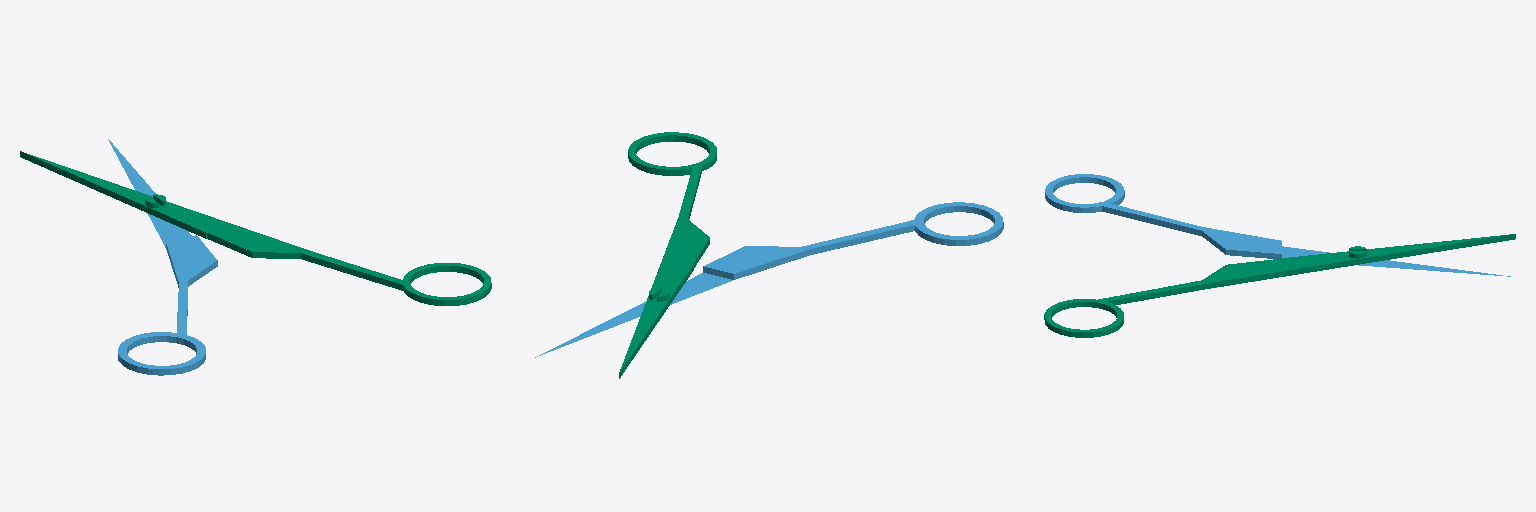
URDF robot description (partnet_297c4f8e6d89d0b33d35434498261b):
<?xml version="1.0" ?>
<robot name="partnet_297c4f8e6d89d0b33d35434498261b">
	<link name="base"/>
	<link name="link_0">
		<visual name="blade-4">
			<origin xyz="0.446743 0 0.018658"/>
			<geometry>
				<mesh filename="textured_objs/new-9.obj"/>
			</geometry>
		</visual>
		<visual name="blade-4">
			<origin xyz="0.446743 0 0.018658"/>
			<geometry>
				<mesh filename="textured_objs/new-4.obj"/>
			</geometry>
		</visual>
		<visual name="handle-5">
			<origin xyz="0.446743 0 0.018658"/>
			<geometry>
				<mesh filename="textured_objs/new-8.obj"/>
			</geometry>
		</visual>
		<visual name="handle-5">
			<origin xyz="0.446743 0 0.018658"/>
			<geometry>
				<mesh filename="textured_objs/new-0.obj"/>
			</geometry>
		</visual>
		<collision>
			<origin xyz="0.446743 0 0.018658"/>
			<geometry>
				<mesh filename="textured_objs/new-9.obj"/>
			</geometry>
		</collision>
		<collision>
			<origin xyz="0.446743 0 0.018658"/>
			<geometry>
				<mesh filename="textured_objs/new-4.obj"/>
			</geometry>
		</collision>
		<collision>
			<origin xyz="0.446743 0 0.018658"/>
			<geometry>
				<mesh filename="textured_objs/new-8.obj"/>
			</geometry>
		</collision>
		<collision>
			<origin xyz="0.446743 0 0.018658"/>
			<geometry>
				<mesh filename="textured_objs/new-0.obj"/>
			</geometry>
		</collision>
	</link>
	<joint name="joint_0" type="revolute">
		<origin xyz="-0.446743 0 -0.018658"/>
		<axis xyz="0 -1 0"/>
		<child link="link_0"/>
		<parent link="link_1"/>
		<limit lower="-0.5654866776461628" upper="1.5770795121020764"/>
	</joint>
	<link name="link_1">
		<visual name="screw-3">
			<origin xyz="0 0 0"/>
			<geometry>
				<mesh filename="textured_objs/original-3.obj"/>
			</geometry>
		</visual>
		<visual name="blade-6">
			<origin xyz="0 0 0"/>
			<geometry>
				<mesh filename="textured_objs/new-6.obj"/>
			</geometry>
		</visual>
		<visual name="handle-7">
			<origin xyz="0 0 0"/>
			<geometry>
				<mesh filename="textured_objs/new-2.obj"/>
			</geometry>
		</visual>
		<visual name="handle-7">
			<origin xyz="0 0 0"/>
			<geometry>
				<mesh filename="textured_objs/new-7.obj"/>
			</geometry>
		</visual>
		<collision>
			<origin xyz="0 0 0"/>
			<geometry>
				<mesh filename="textured_objs/original-3.obj"/>
			</geometry>
		</collision>
		<collision>
			<origin xyz="0 0 0"/>
			<geometry>
				<mesh filename="textured_objs/new-6.obj"/>
			</geometry>
		</collision>
		<collision>
			<origin xyz="0 0 0"/>
			<geometry>
				<mesh filename="textured_objs/new-2.obj"/>
			</geometry>
		</collision>
		<collision>
			<origin xyz="0 0 0"/>
			<geometry>
				<mesh filename="textured_objs/new-7.obj"/>
			</geometry>
		</collision>
	</link>
	<joint name="joint_1" type="fixed">
		<origin rpy="1.570796326794897 0 -1.570796326794897" xyz="0 0 0"/>
		<child link="link_1"/>
		<parent link="base"/>
	</joint>
</robot>

--- Facts derived from the render (not from the file) ---
3 views of the same robot in one strip: view 1: azimuth 30°, elevation 25°; view 2: azimuth 150°, elevation 25°; view 3: azimuth 270°, elevation 25° (orthographic).
Robot: partnet_297c4f8e6d89d0b33d35434498261b — 3 links, 2 joints (1 revolute, 1 fixed); root link base; default pose: all joints at 0.
Links seen in each view (by area): view 1: link_1, link_0; view 2: link_0, link_1; view 3: link_1, link_0.
Boxes of the visible links, <box> form: link_1: <box>20,151,491,305</box>; link_0: <box>108,139,217,375</box>; link_0: <box>535,202,1003,357</box>; link_1: <box>619,132,716,378</box>; link_1: <box>1044,234,1515,337</box>; link_0: <box>1045,174,1510,276</box>.
Size in the robot's own frame: 1.3 by 1.64 by 0.0386 metres.
8 mesh visuals loaded from 8 distinct referenced files (8 OBJ).
